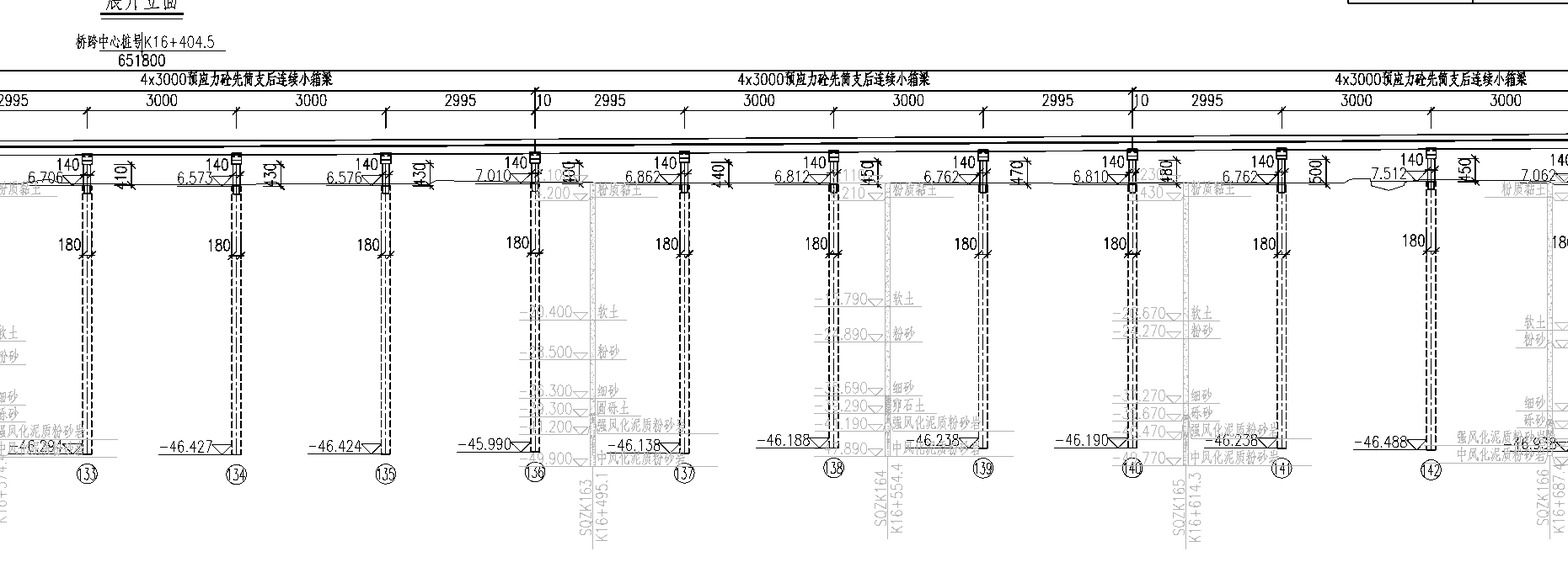B: (1129, 65, 1559, 98)
C: (2, 140, 112, 495), (1046, 138, 1157, 489), (452, 141, 559, 491), (303, 144, 409, 494), (899, 141, 1006, 487), (1198, 138, 1303, 488), (1350, 137, 1453, 490), (155, 144, 258, 494), (604, 141, 707, 491), (753, 141, 857, 485)
